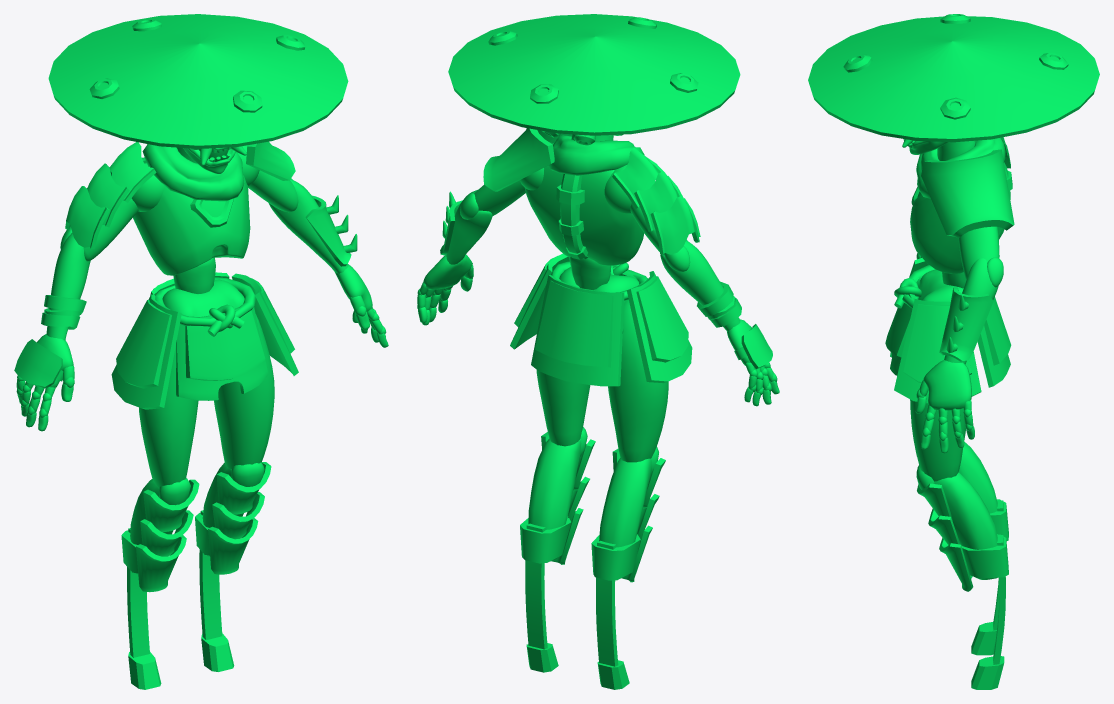
The model's file is Chara02_v5_Crow_Merged.fbx.
The picture shows the model from 3 angles, left to right: view 1: azimuth 30°, elevation 25°; view 2: azimuth 150°, elevation 25°; view 3: azimuth 270°, elevation 25°; orthographic projection. The views are drawn at different scales.
Parts seen in each view (by area): view 1: Crow_LOW; view 2: Crow_LOW; view 3: Crow_LOW.
Boxes of the visible parts, x1=… form: Crow_LOW: x1=14, y1=14, x2=388, y2=689; Crow_LOW: x1=417, y1=14, x2=779, y2=689; Crow_LOW: x1=808, y1=14, x2=1099, y2=689.
Size of the model in its own units: 129 by 223 by 94.27.
